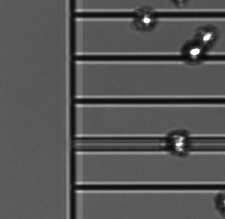Living Cell: (167, 132, 189, 155), (183, 40, 205, 62), (135, 8, 156, 29), (198, 24, 216, 45)
